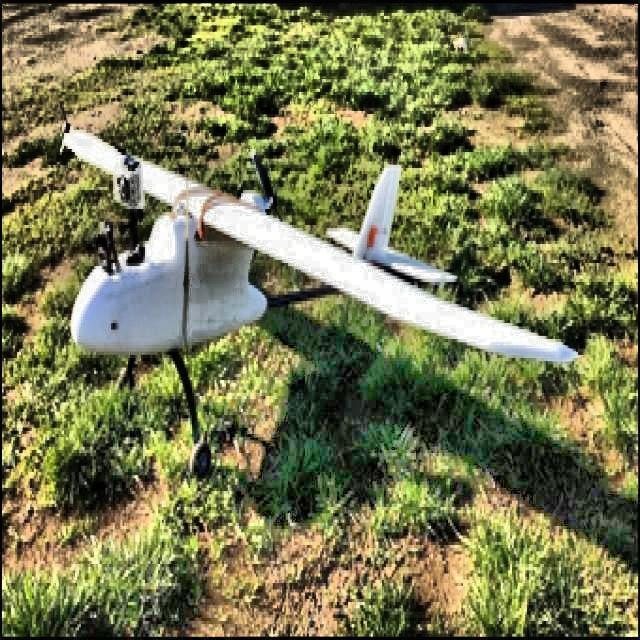iha: (40, 112, 585, 384)
